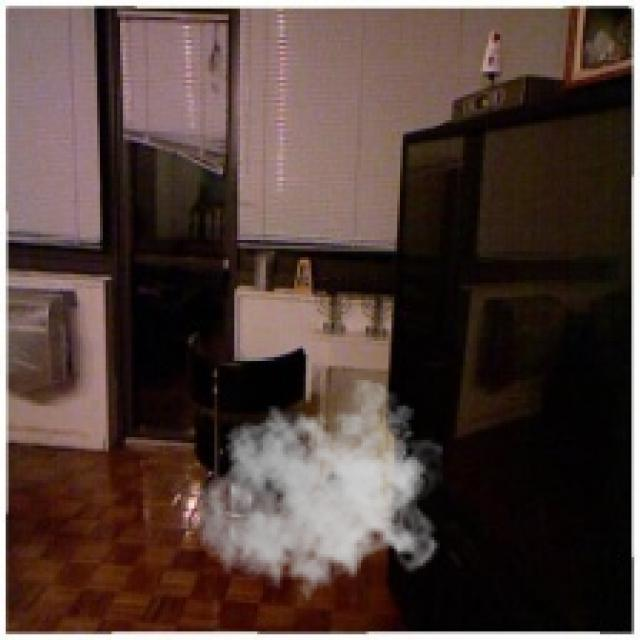Smoke: (194, 379, 443, 612)
